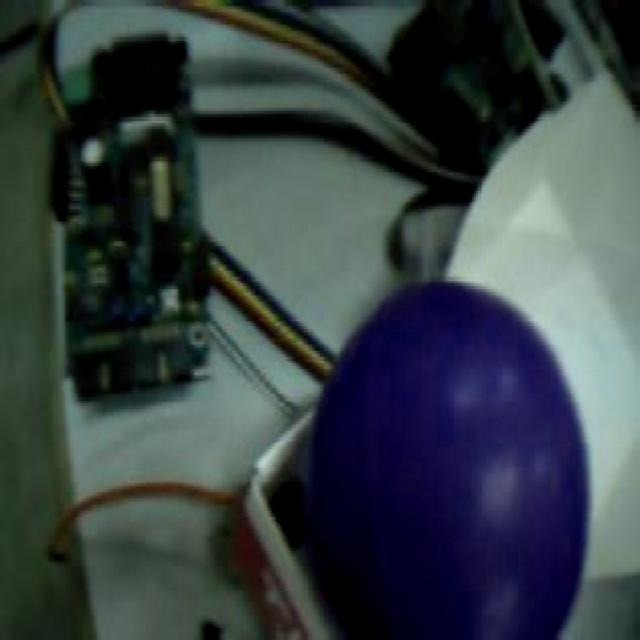BallPurple: (310, 277, 589, 640)
